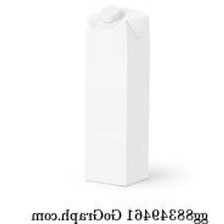carton: (76, 4, 157, 188)
